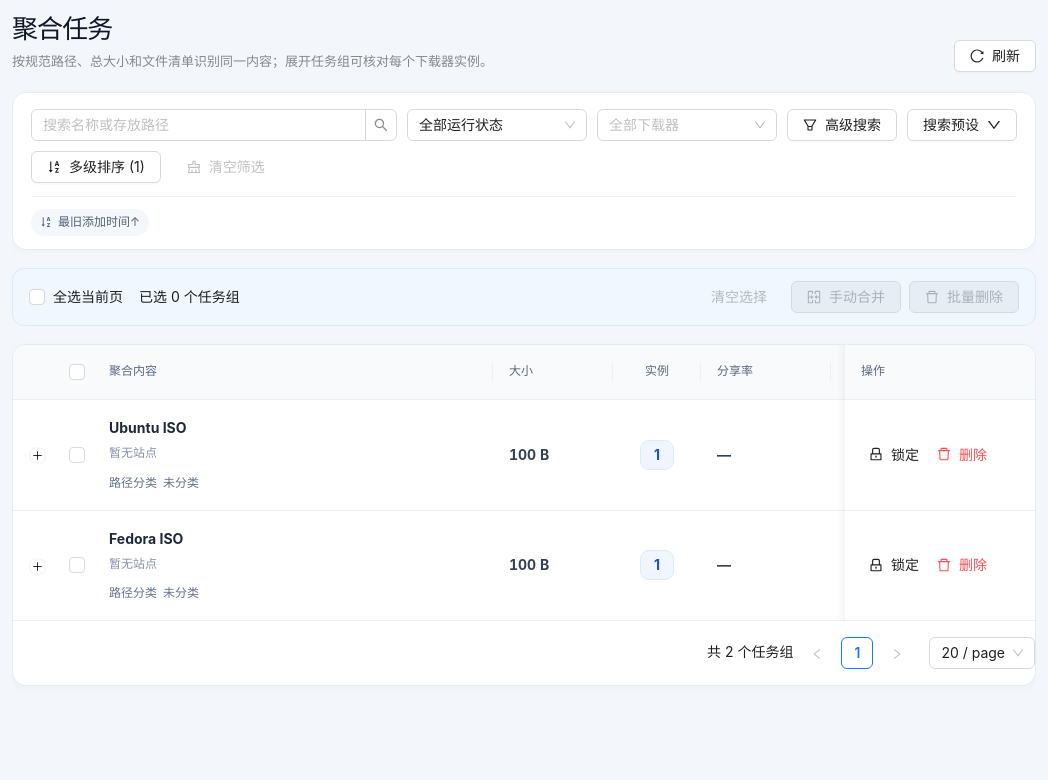
Test: bulk selection and deletion › does not open a partial deletion if any selected group fails to load
This screenshot has width=1048, height=780.
Click the 1st checkbox labelled "全选当前页" at [80, 297], box x1=29 y1=286 x2=131 y2=308
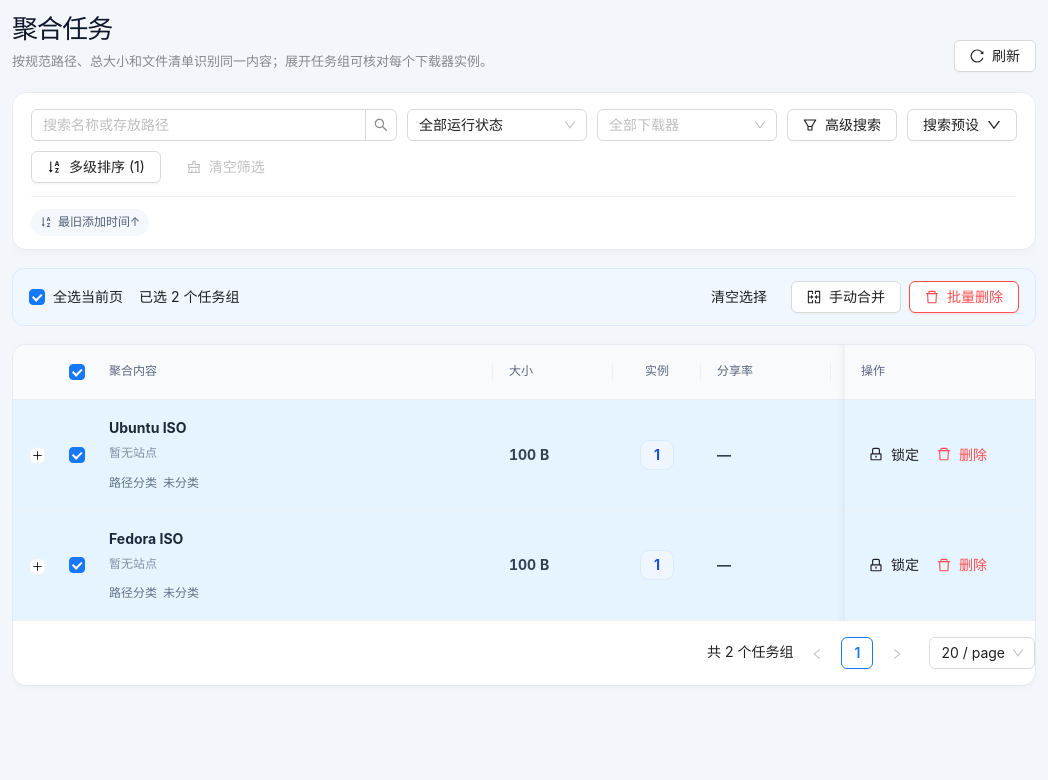
Click the button "批量删除" at [964, 297], box x1=909 y1=281 x2=1019 y2=313
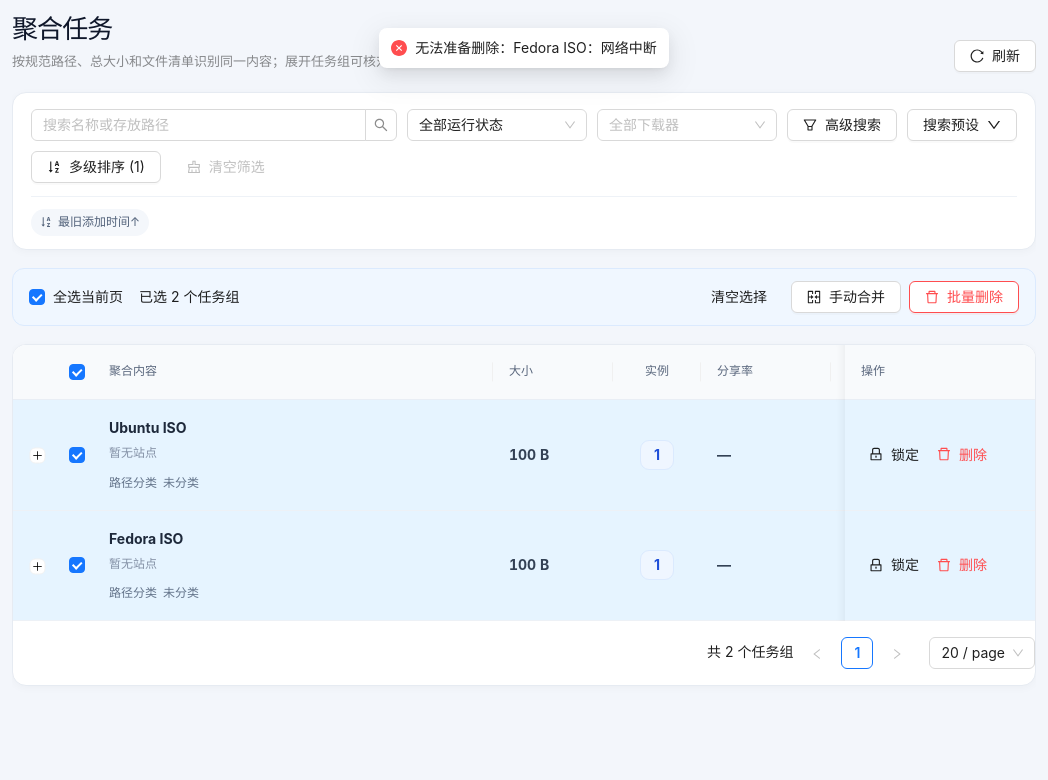
Result: the text "已选 2 个任务组" is shown at x1=139 y1=288 x2=239 y2=305
Result: the button "批量删除" is enabled at x1=909 y1=281 x2=1019 y2=313
Result: the text "无法准备删除：Fedora ISO：网络中断" is shown at x1=415 y1=37 x2=657 y2=59
